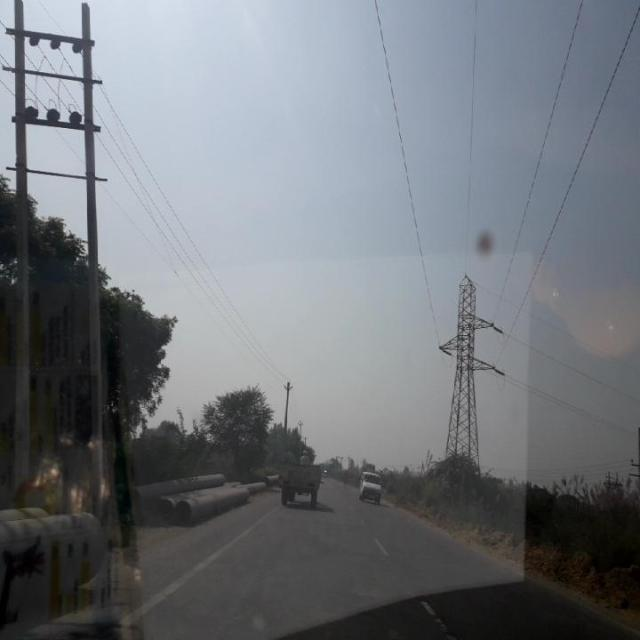D44: (413, 588, 499, 638)
